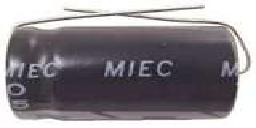Electrolytic Capacitor: (2, 3, 254, 128)
